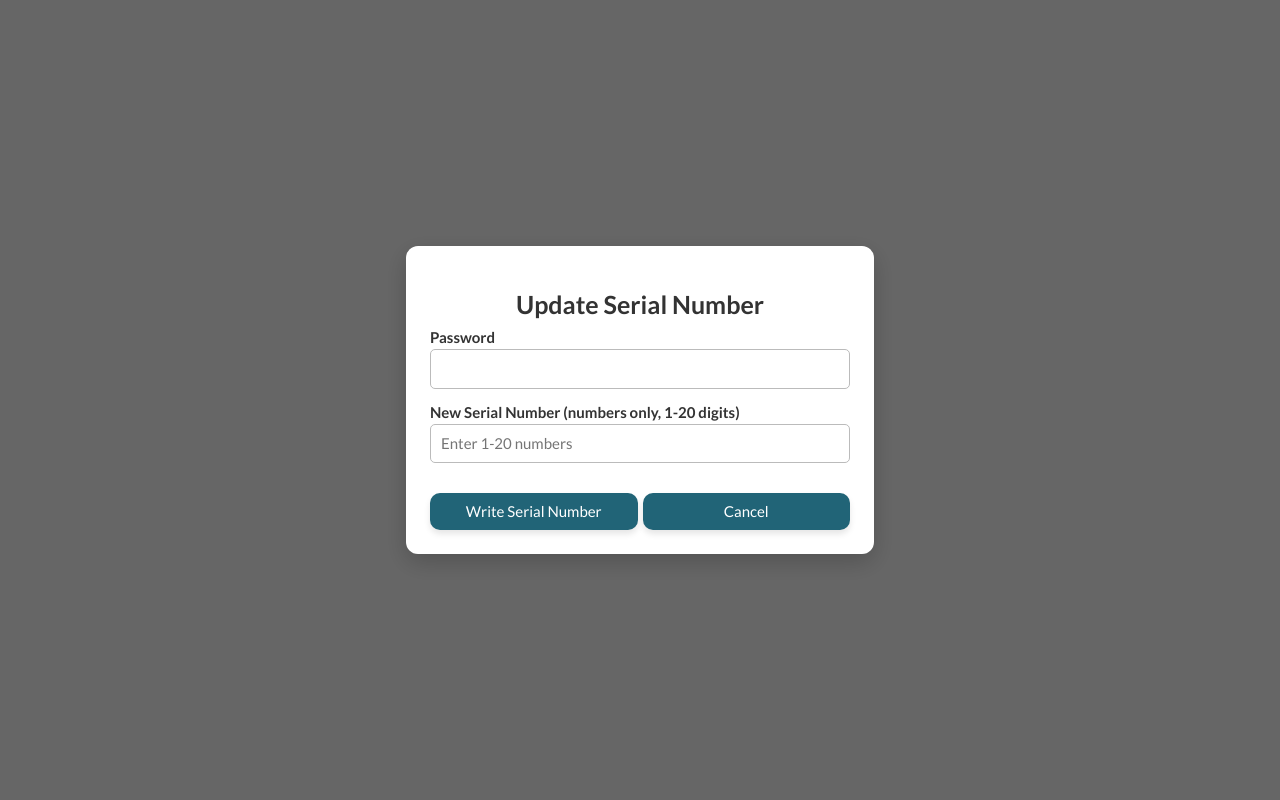
Test: SerialNumberModal › validates serial contains only digits
Note: Fill password and invalid serial
Type "1234" into the password field labelled "Password" at (640, 369), box [430,349,850,389]
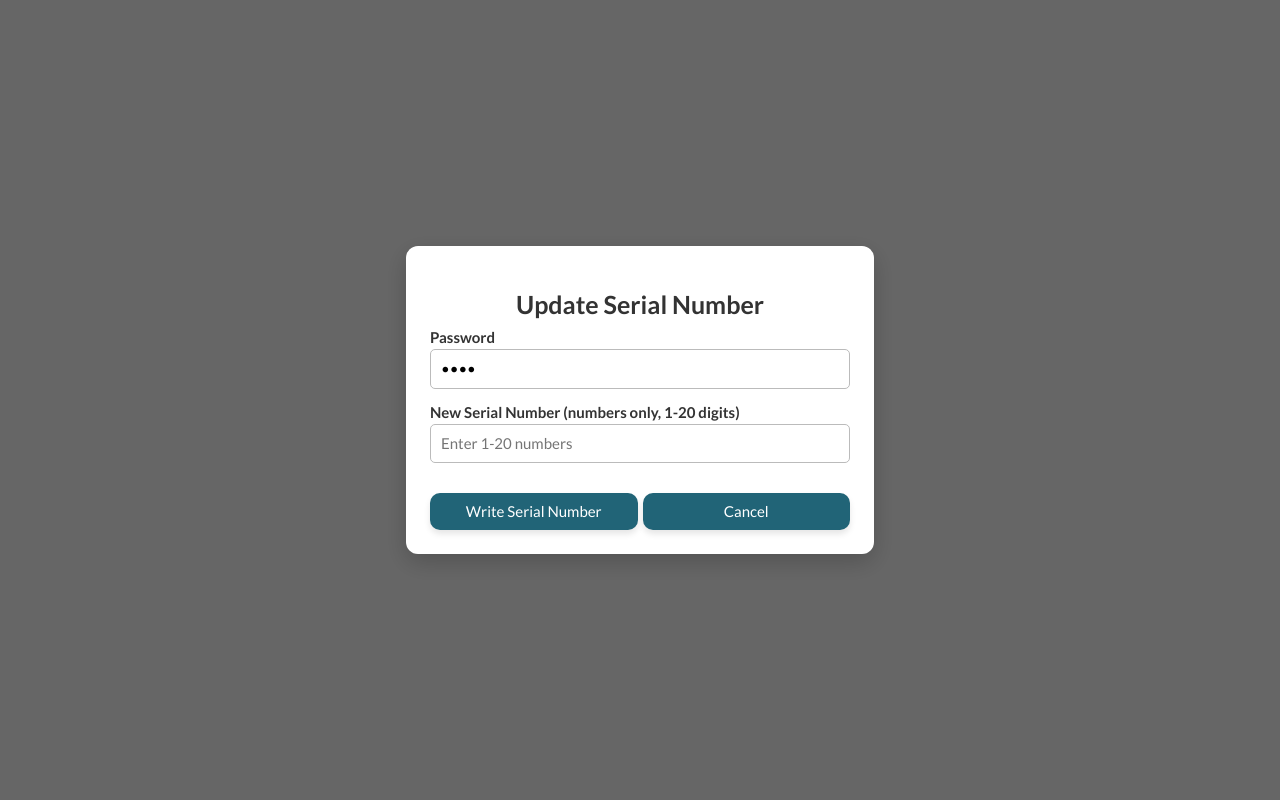
Type "ABC" into the field labelled "New Serial Number (numbers only, 1-20 digits)" at (640, 444), box [430,424,850,463]
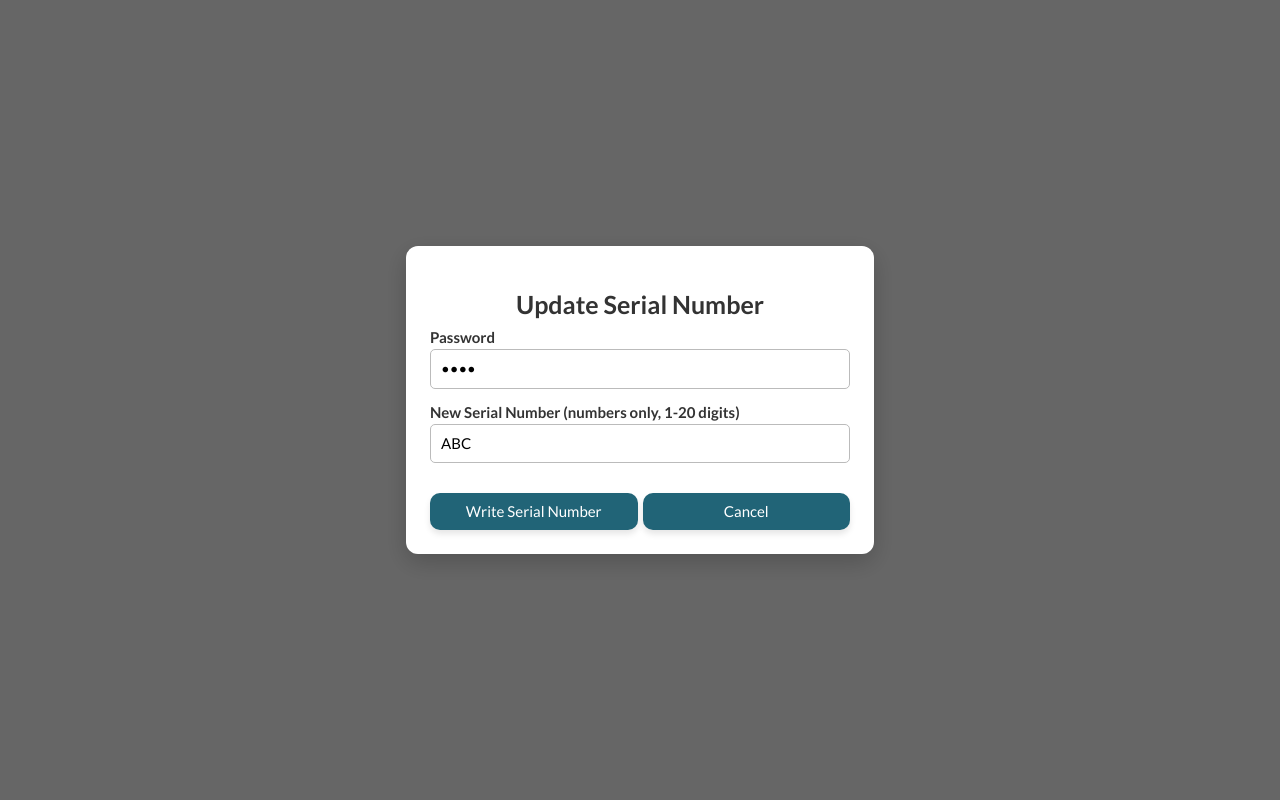
Click the button "Write Serial Number" at (534, 512), box [430,493,638,530]
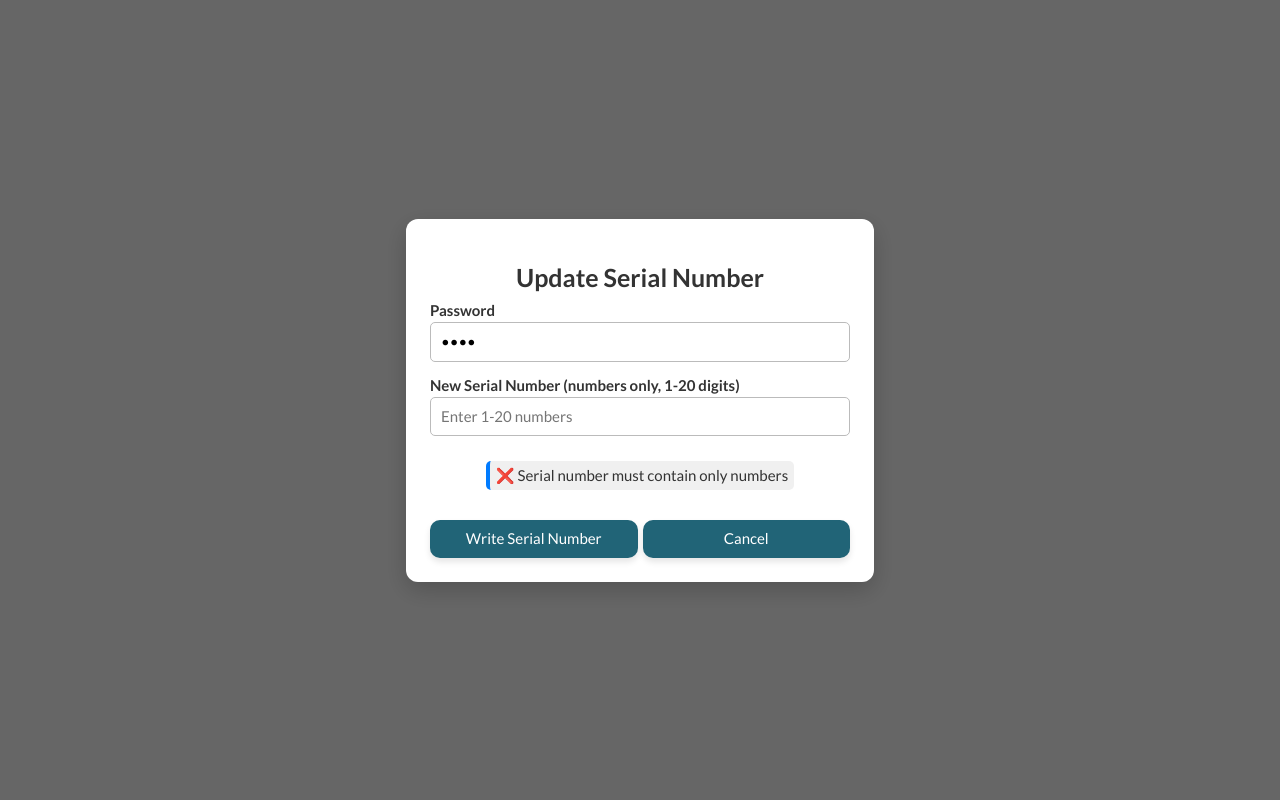
Check: the text "❌ Serial number must contain only numbers" is shown, box [486,461,794,490]
Check: the field labelled "New Serial Number (numbers only, 1-20 digits)" is empty, box [430,397,850,436]
